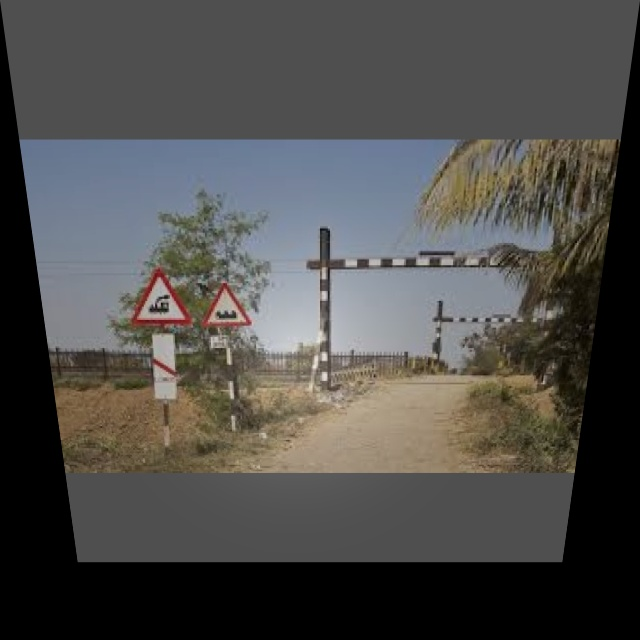Unguarded_Level_Crossing: (128, 260, 192, 331)
